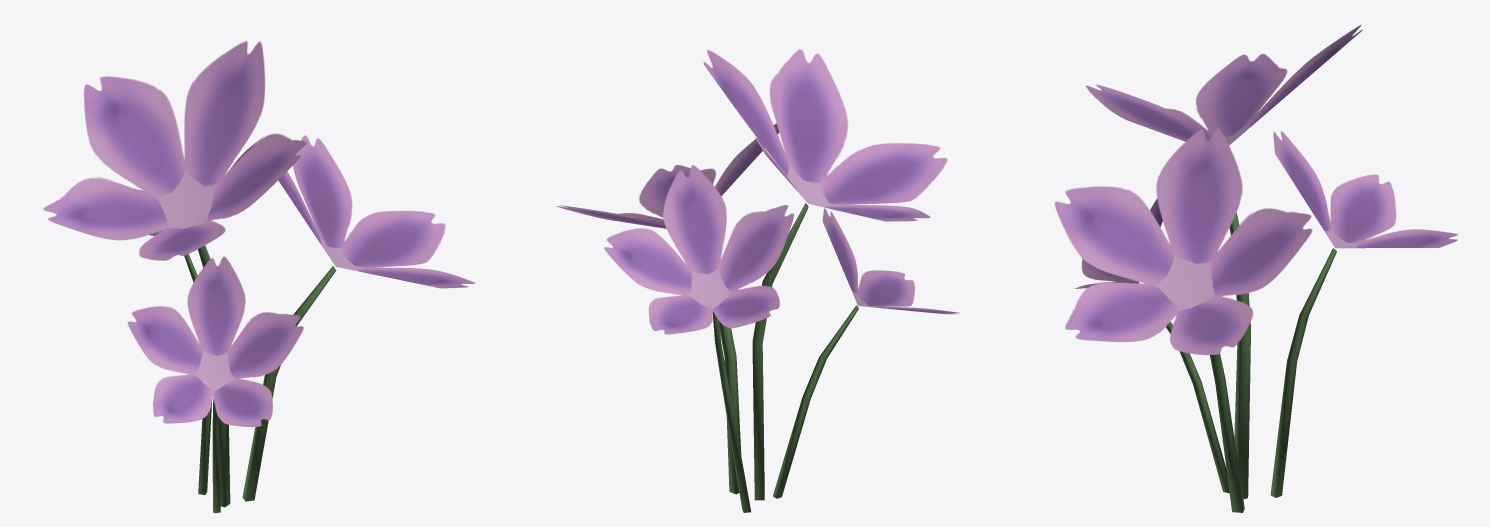
File: Flower_5.glb
The picture shows the model from 3 angles, left to right: view 1: azimuth 30°, elevation 25°; view 2: azimuth 150°, elevation 25°; view 3: azimuth 270°, elevation 25°; orthographic projection. The views are drawn at different scales.
Parts seen in each view (by area): view 1: Flower_5_Clump; view 2: Flower_5_Clump; view 3: Flower_5_Clump.
Part boxes in pixels (x1,y1,x2,y2): Flower_5_Clump: (43, 41, 475, 512); Flower_5_Clump: (556, 49, 959, 512); Flower_5_Clump: (1054, 25, 1457, 512).
Bounding box in the file's own units: 0.426 × 0.4508 × 0.3735.
Materials: 1 (1 with a texture image).
